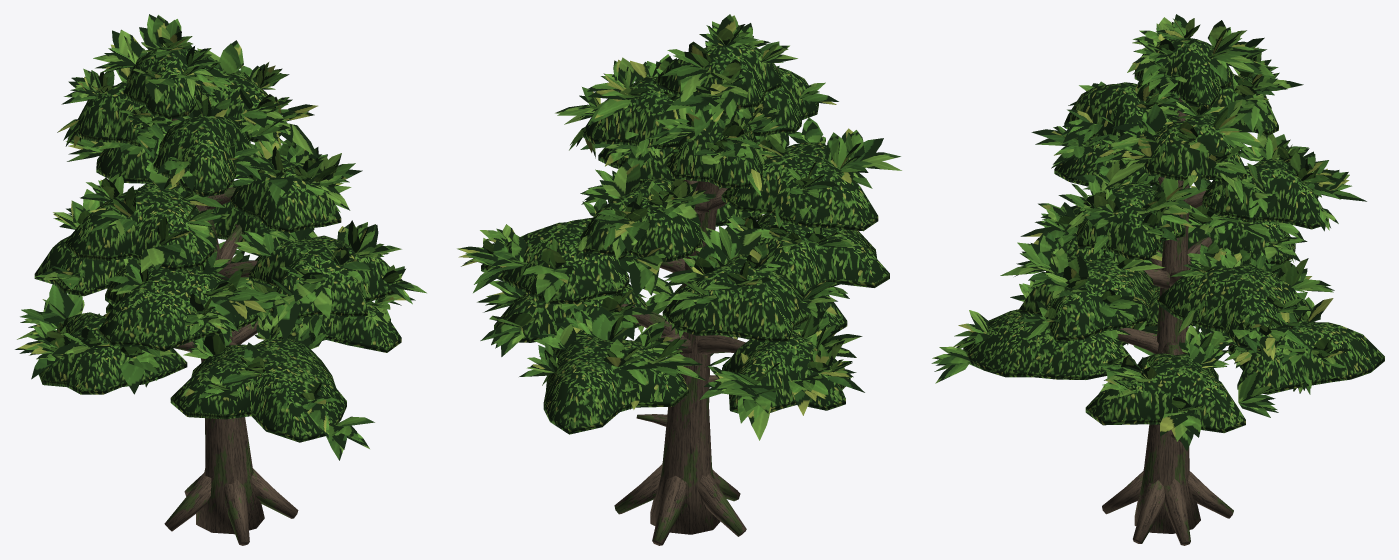
The model's file is Canopy_Tree_C.glb.
3 renders of one model, left to right at view 1: azimuth 30°, elevation 25°; view 2: azimuth 150°, elevation 25°; view 3: azimuth 270°, elevation 25°, orthographic. The views are drawn at different scales.
Parts seen in each view (by area): view 1: Canopy_Tree_C__Leaves_Mass, Canopy_Tree_C__Leaves_Detail, Canopy_Tree_C__Bark; view 2: Canopy_Tree_C__Leaves_Mass, Canopy_Tree_C__Leaves_Detail, Canopy_Tree_C__Bark; view 3: Canopy_Tree_C__Leaves_Mass, Canopy_Tree_C__Leaves_Detail, Canopy_Tree_C__Bark.
Boxes of the visible parts, x1=… form: Canopy_Tree_C__Leaves_Mass: x1=34, y1=46, x2=402, y2=442; Canopy_Tree_C__Leaves_Detail: x1=15, y1=14, x2=426, y2=460; Canopy_Tree_C__Bark: x1=164, y1=118, x2=298, y2=545; Canopy_Tree_C__Leaves_Mass: x1=481, y1=44, x2=889, y2=434; Canopy_Tree_C__Leaves_Detail: x1=457, y1=14, x2=901, y2=440; Canopy_Tree_C__Bark: x1=614, y1=113, x2=746, y2=545; Canopy_Tree_C__Leaves_Mass: x1=963, y1=38, x2=1384, y2=432; Canopy_Tree_C__Leaves_Detail: x1=931, y1=14, x2=1366, y2=451; Canopy_Tree_C__Bark: x1=1102, y1=97, x2=1233, y2=545.
Bounding box in the file's own units: 38.65 × 49.59 × 42.33.
Materials: 2 (2 with a texture image).
